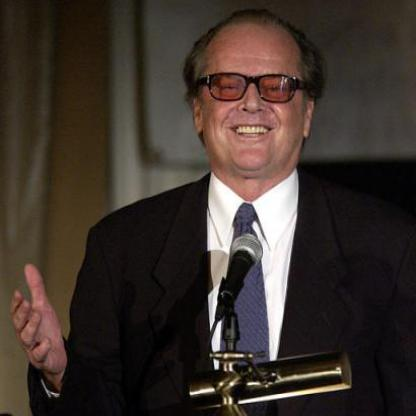face: (199, 11, 310, 175)
